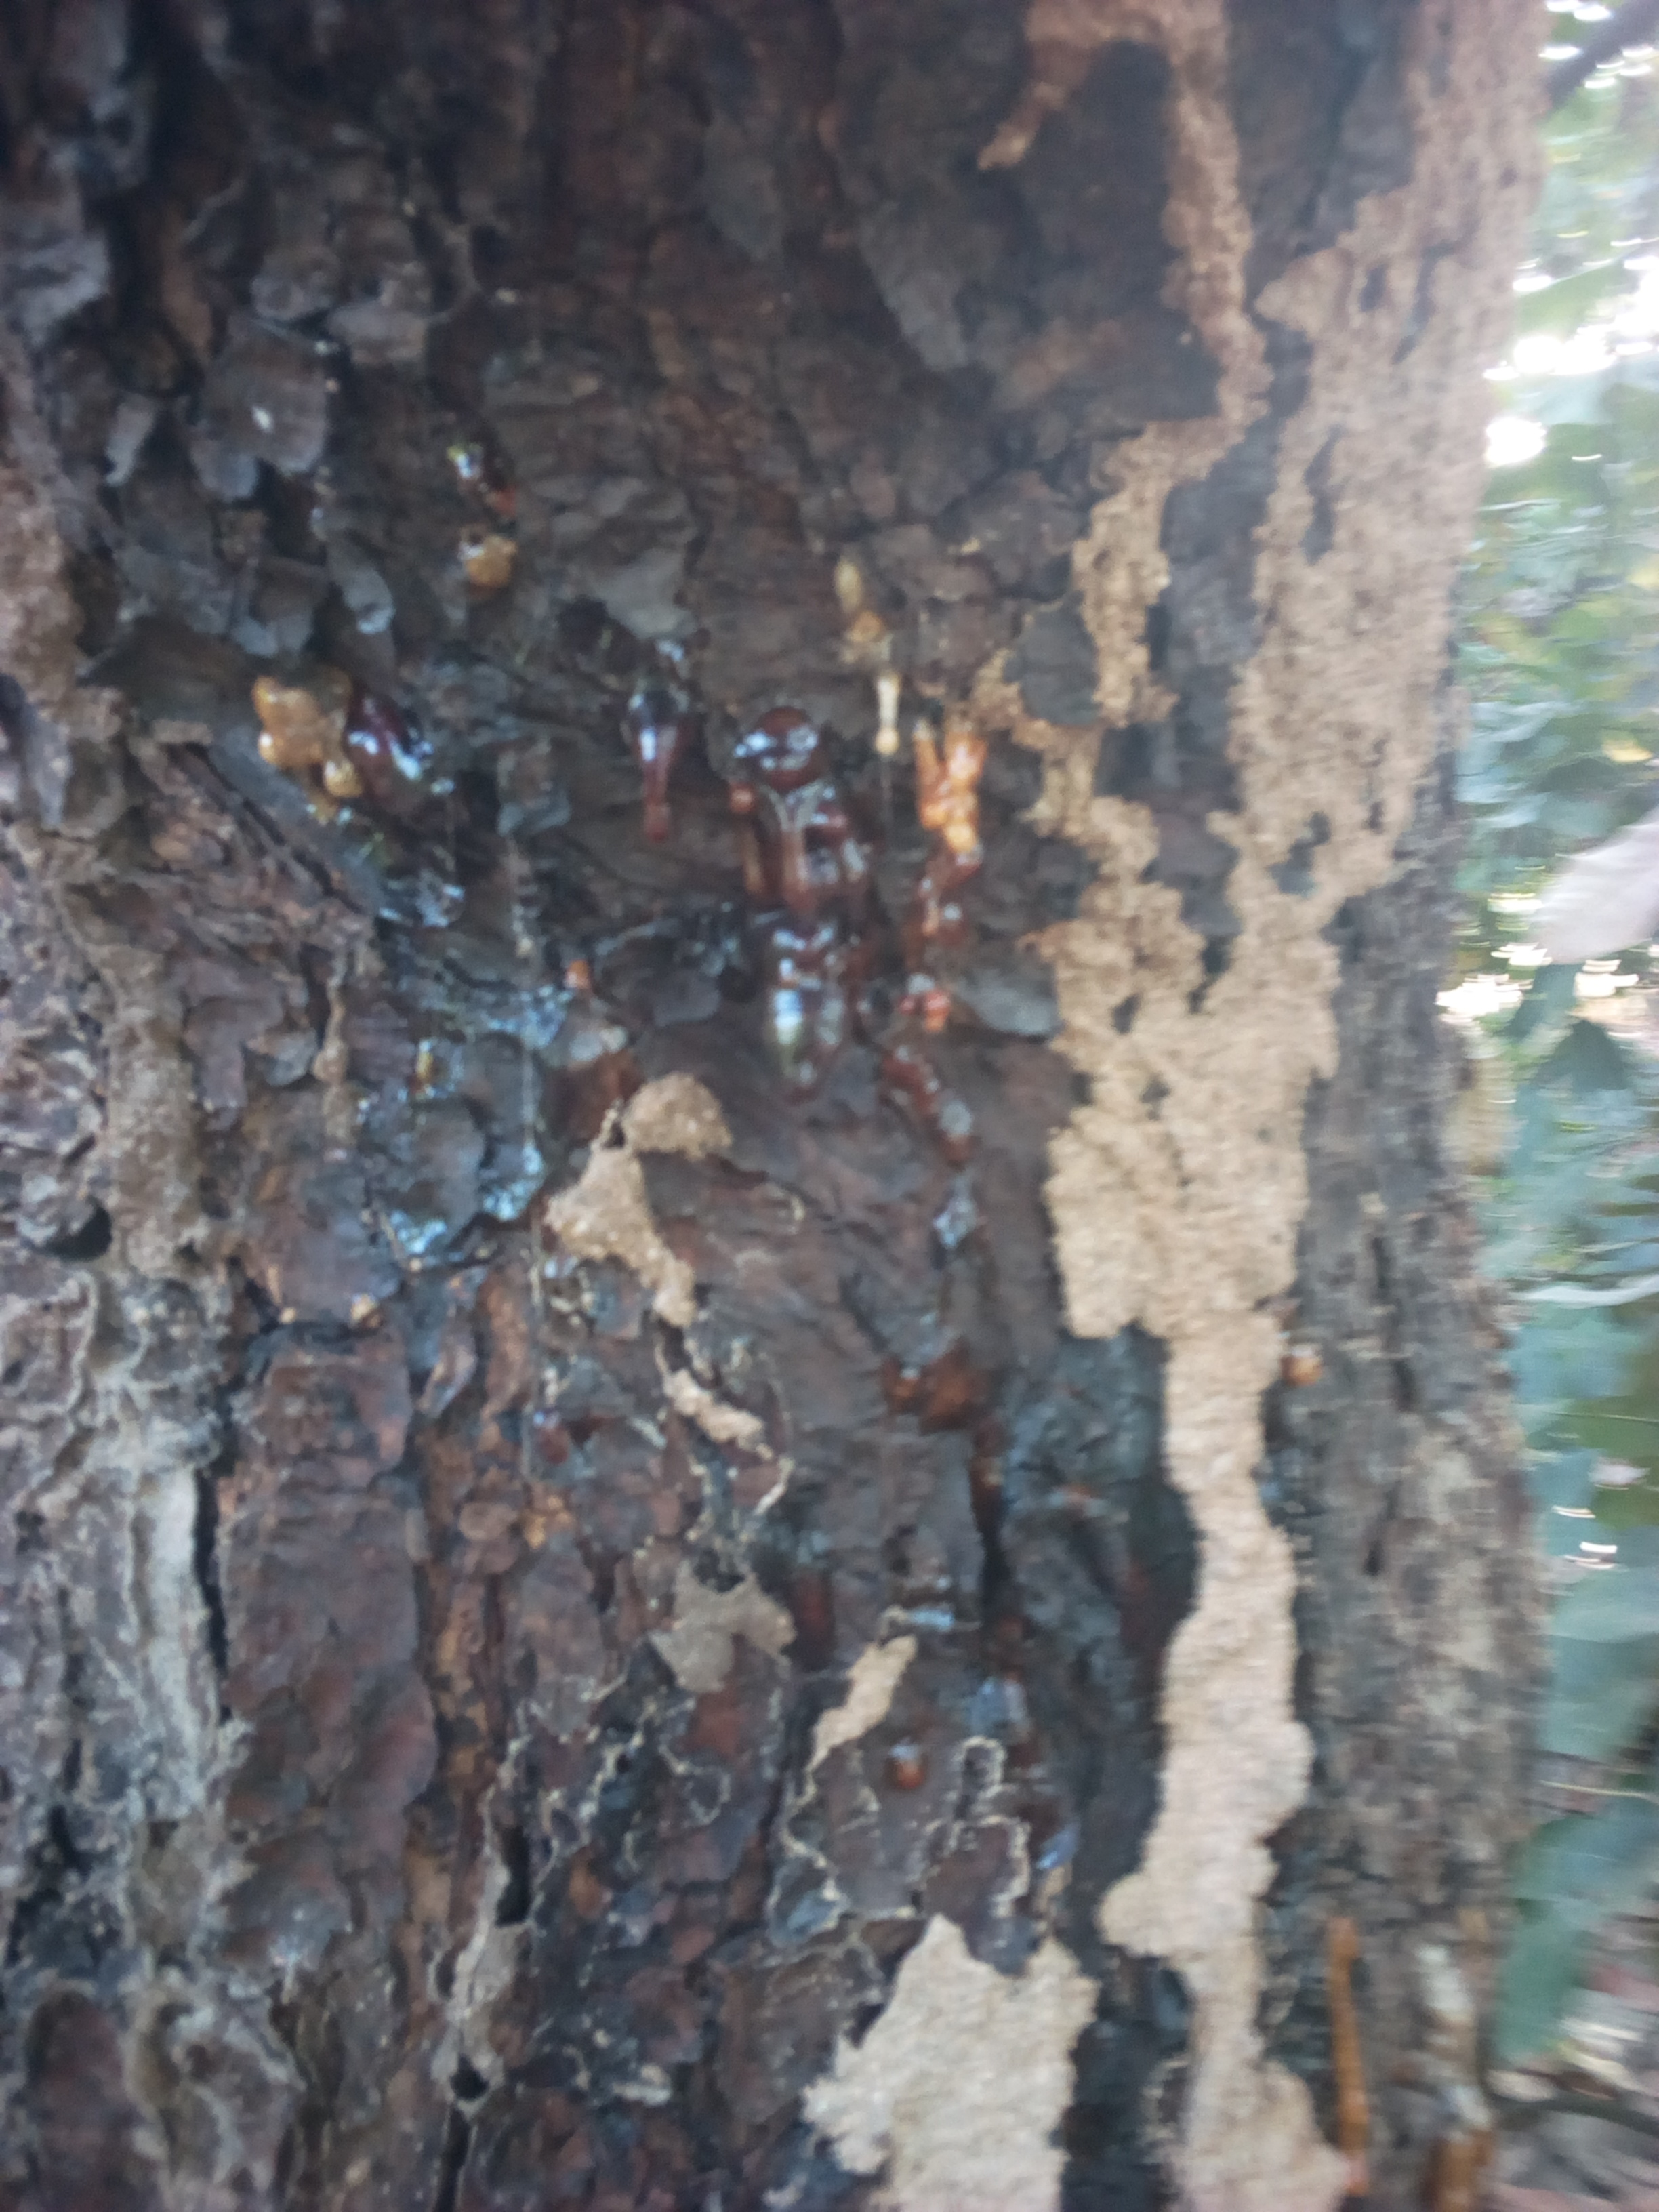Termites: (1053, 937, 1436, 2078), (1107, 19, 1486, 906)
